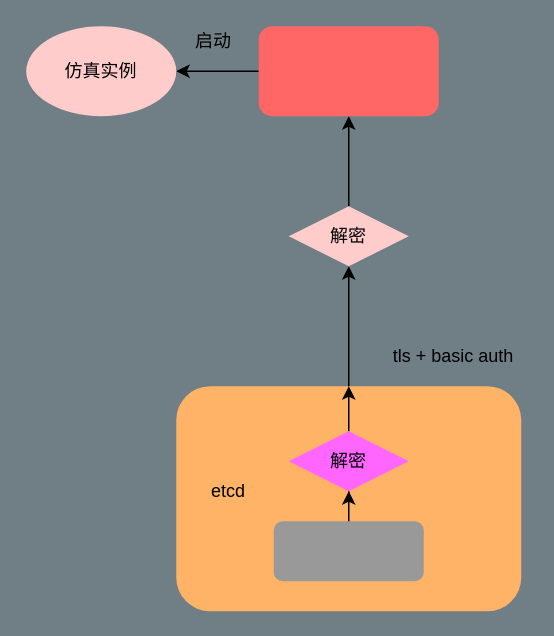
This 554x636 diagram has some shape labels left out. The box of each missing label's shape, as (x1, y1, x2, y2) in pixels:
内存: (273, 520, 423, 580)
策略 manager: (258, 26, 438, 116)
